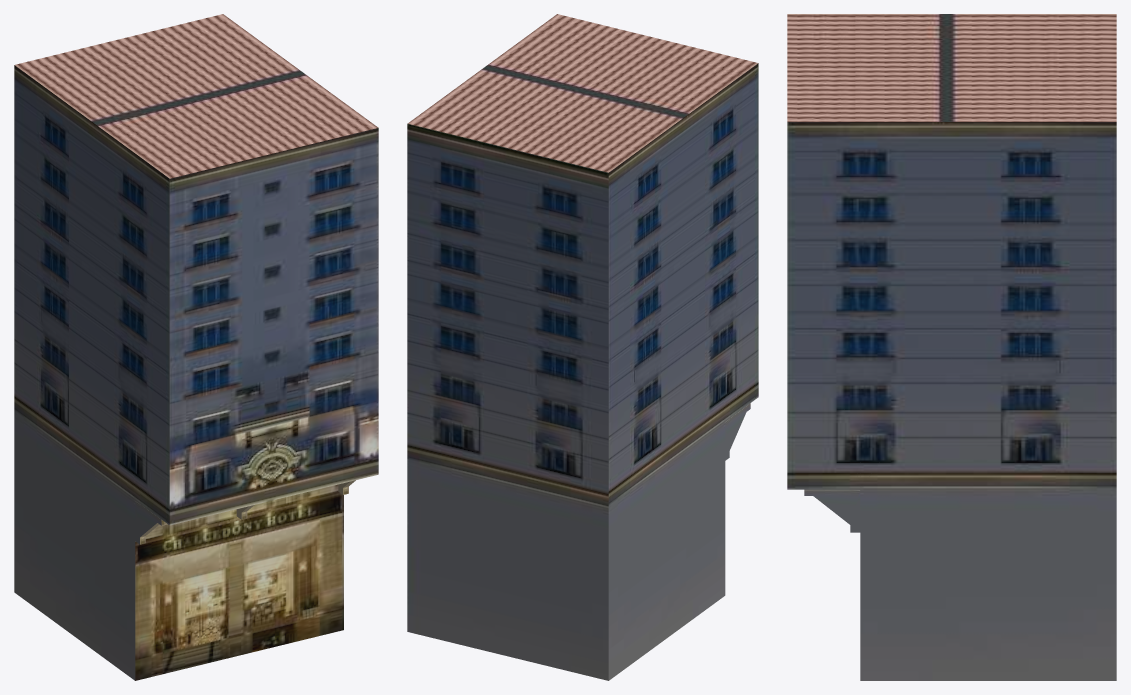
3 views of the same model, side by side, from view 1: azimuth 30°, elevation 25°; view 2: azimuth 150°, elevation 25°; view 3: azimuth 270°, elevation 25° (orthographic). The views are drawn at different scales.
Parts seen in each view (by area): view 1: HN188___Chalcedony_Hotel; view 2: HN188___Chalcedony_Hotel; view 3: HN188___Chalcedony_Hotel.
Boxes of the visible parts, x1=… form: HN188___Chalcedony_Hotel: x1=14, y1=14, x2=378, y2=680; HN188___Chalcedony_Hotel: x1=407, y1=14, x2=758, y2=680; HN188___Chalcedony_Hotel: x1=787, y1=14, x2=1116, y2=680.
Bounding box in the file's own units: 14.5 × 35 × 18.7.
1 material, 1 textured.
